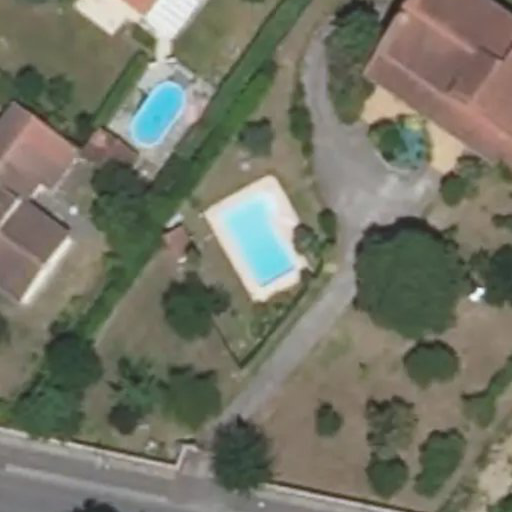pool: (221, 217, 290, 266)
